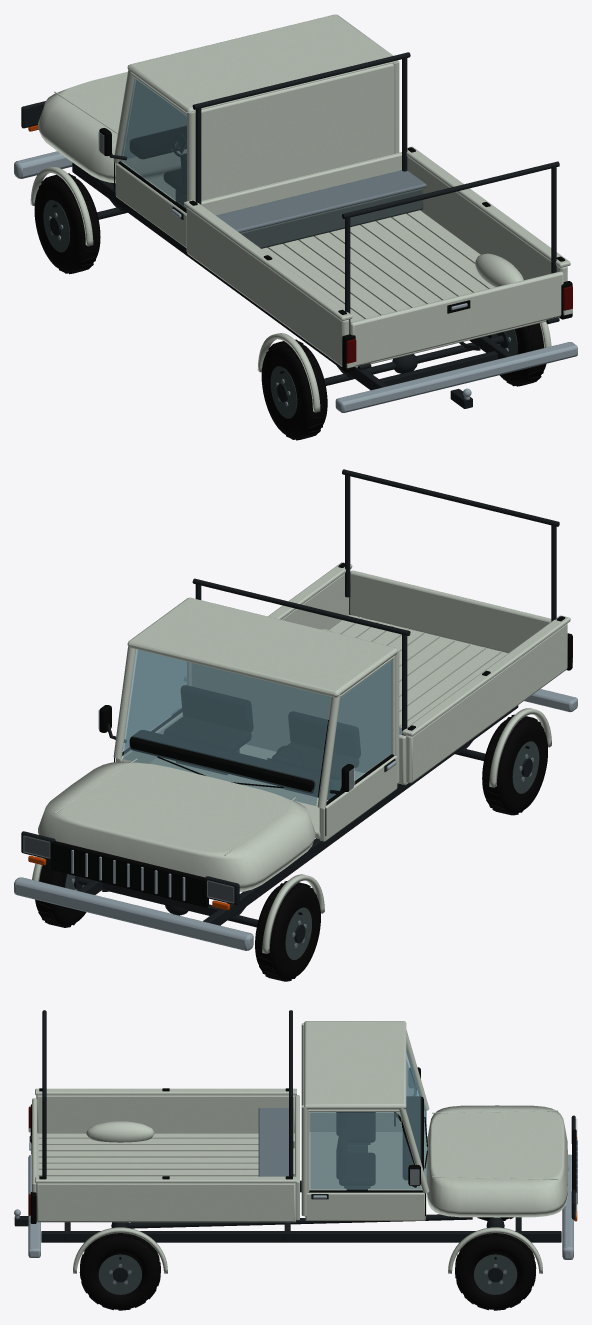
The model's file is WorkPickup.gltf.
3 renders of one model, top to bottom at view 1: azimuth 30°, elevation 25°; view 2: azimuth 150°, elevation 25°; view 3: azimuth 270°, elevation 25°, orthographic. The views are drawn at different scales.
Parts seen in each view (by area): view 1: WorkPickup__Body, WorkPickup__Tailgate, WorkPickup__DriverDoorGlass, WorkPickup__Wheel_RL, WorkPickup__Wheel_FL, WorkPickup__DriverDoor, WorkPickup__Glass_Windshield, WorkPickup__Wheel_RR; view 2: WorkPickup__Body, WorkPickup__Glass_Windshield, WorkPickup__Tailgate, WorkPickup__DriverDoorGlass, WorkPickup__Wheel_FL, WorkPickup__Wheel_RL, WorkPickup__DriverDoor, WorkPickup, WorkPickup__Wheel_FR; view 3: WorkPickup__Body, WorkPickup, WorkPickup__Wheel_FR, WorkPickup__Wheel_RR, WorkPickup__Glass_Windshield, WorkPickup__DriverDoor, WorkPickup__Tailgate.
Boxes of the visible parts, x1,y1,x2,y2 form: WorkPickup__Body: (14,14,577,412); WorkPickup__Tailgate: (350,271,563,366); WorkPickup__DriverDoorGlass: (120,78,186,208); WorkPickup__Wheel_RL: (261,339,327,440); WorkPickup__Wheel_FL: (34,173,100,274); WorkPickup__DriverDoor: (99,74,186,247); WorkPickup__Glass_Windshield: (124,80,186,158); WorkPickup__Wheel_RR: (487,323,546,386); WorkPickup__Body: (14,469,577,953); WorkPickup__Glass_Windshield: (123,650,331,805); WorkPickup__Tailgate: (350,570,551,653); WorkPickup__DriverDoorGlass: (327,660,392,800); WorkPickup__Wheel_FL: (255,881,320,981); WorkPickup__Wheel_RL: (482,714,547,815); WorkPickup__DriverDoor: (319,656,397,841); WorkPickup: (123,649,187,750); WorkPickup__Wheel_FR: (35,858,86,927); WorkPickup__Body: (14,1010,577,1273); WorkPickup: (310,1112,421,1189); WorkPickup__Wheel_FR: (455,1233,536,1310); WorkPickup__Wheel_RR: (79,1233,160,1310); WorkPickup__Glass_Windshield: (406,1045,426,1181); WorkPickup__DriverDoor: (309,1067,425,1131); WorkPickup__Tailgate: (29,1098,37,1192).
Size of the model in its own units: 1.99 by 1.91 by 4.66.
3 materials, 1 textured.
